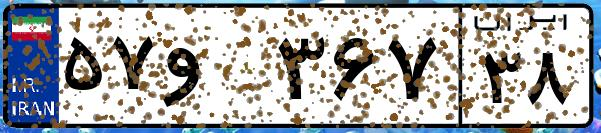3: (270, 28, 330, 110), (475, 38, 525, 113)
5: (57, 26, 110, 100)
6: (330, 28, 385, 110)
7: (385, 28, 445, 110), (110, 28, 158, 98)
8: (525, 38, 570, 115)
و: (158, 20, 270, 120)
